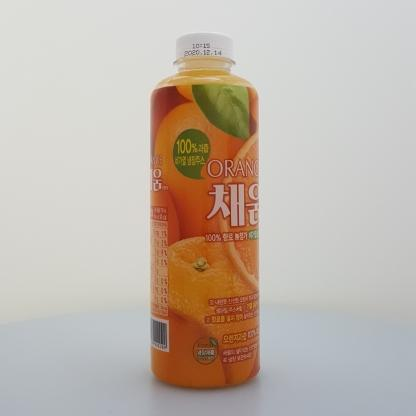-------730ML: (149, 31, 260, 389)
